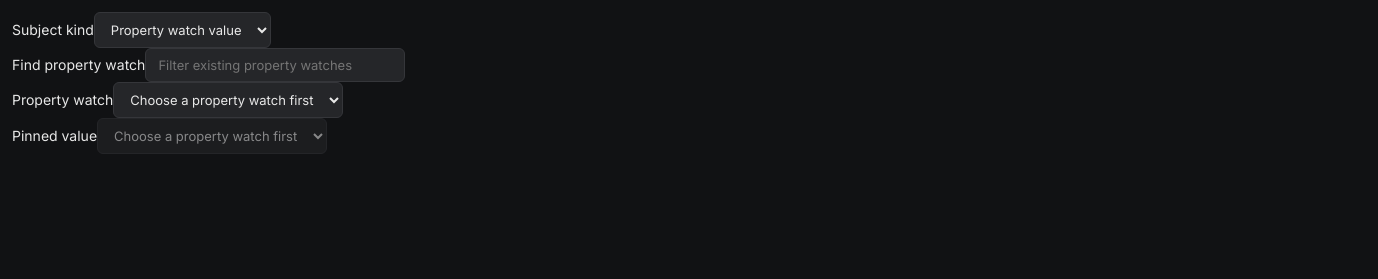
Test case: custom-rule subject picker › explains that a fresh pin waits for the next collection tick
The width and height of the screenshot is (1378, 279).
Select "VPN usernames" in the dropdown labelled "Property watch" at (228, 100), box [113,82,343,118]
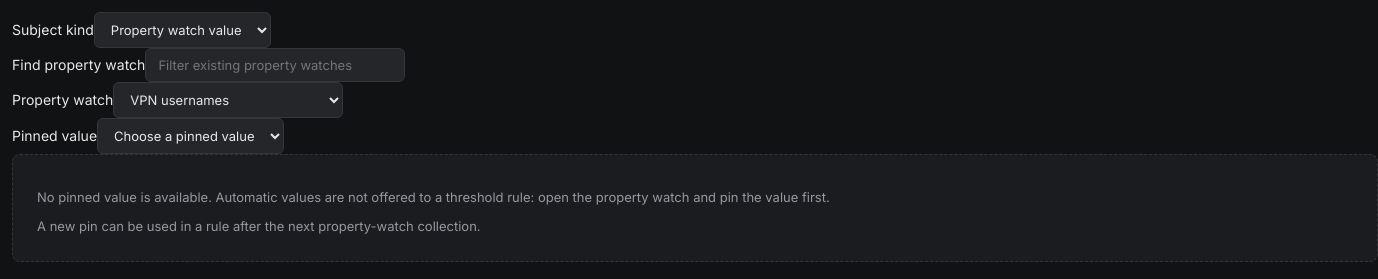
Now the text "new pin can be used in a rule after the next property-watch collection." is shown, box [37,218,481,234]
